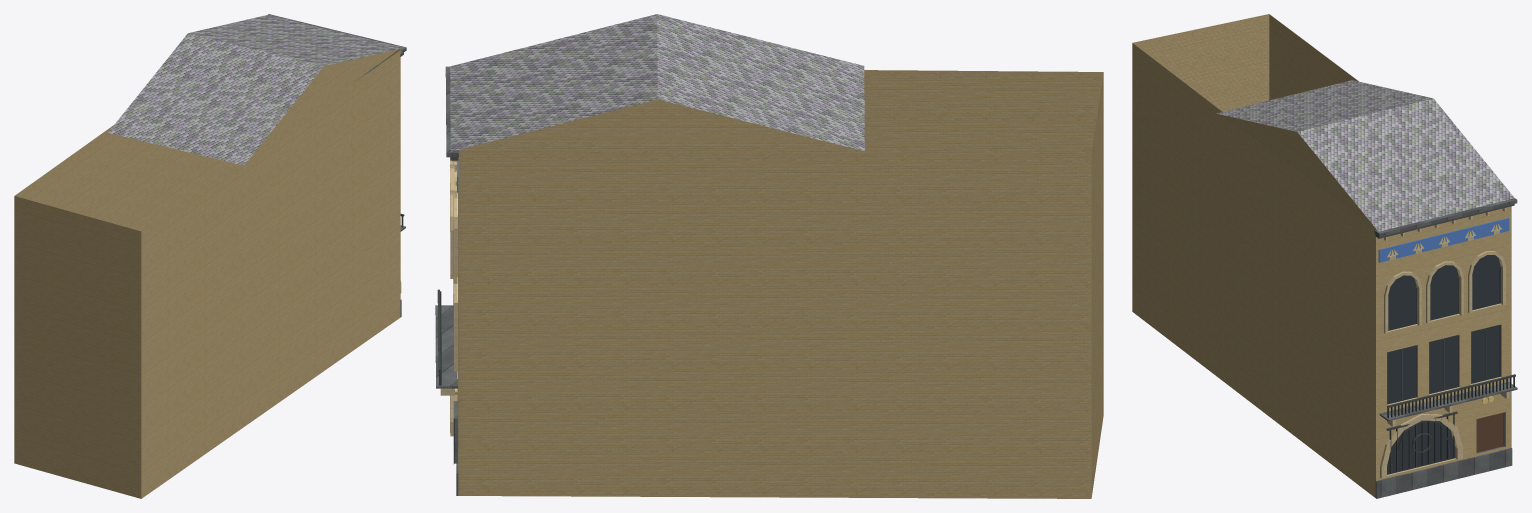
3 views of the same model, side by side, from view 1: azimuth 30°, elevation 25°; view 2: azimuth 150°, elevation 25°; view 3: azimuth 270°, elevation 25° (orthographic). The views are drawn at different scales.
Parts seen in each view (by area): view 1: bldg_501637650_landmark; view 2: bldg_501637650_landmark; view 3: bldg_501637650_landmark.
Boxes of the visible parts, x1,y1,x2,y2 form: bldg_501637650_landmark: [14, 14, 406, 498]; bldg_501637650_landmark: [435, 14, 1103, 498]; bldg_501637650_landmark: [1132, 14, 1517, 498].
Size of the model in its own units: 23.27 by 15.2 by 17.14.
Materials: 10 (4 with a texture image).
